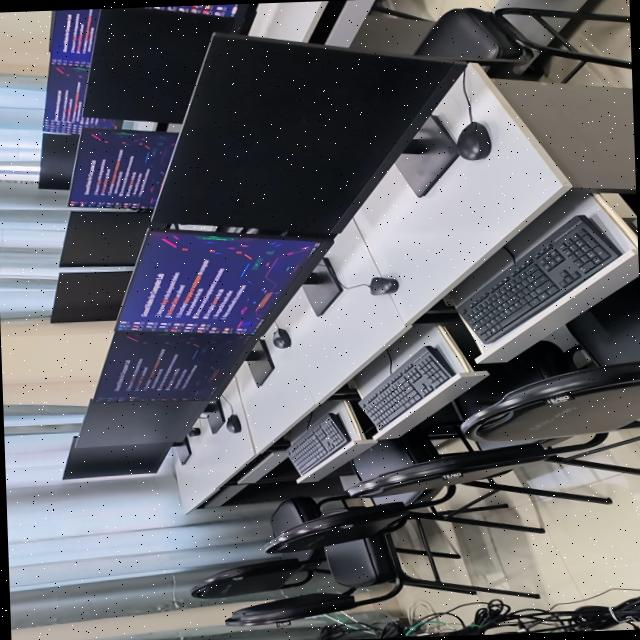Chair: (225, 518, 538, 625), (460, 277, 640, 440), (347, 431, 640, 496), (266, 484, 455, 552), (191, 547, 329, 597), (416, 7, 525, 58), (352, 427, 459, 478), (465, 470, 610, 502), (269, 495, 345, 537), (446, 516, 542, 532), (345, 513, 356, 522)
Keyboard: (460, 214, 617, 342), (360, 345, 453, 428), (289, 412, 349, 473)
Monitor: (152, 33, 465, 235), (116, 231, 319, 333), (83, 6, 243, 122), (93, 329, 250, 401), (69, 128, 177, 208), (59, 210, 167, 266), (79, 399, 207, 446), (42, 64, 120, 133), (62, 435, 183, 478), (50, 270, 129, 321), (50, 8, 99, 66), (38, 132, 77, 188)
Mouse: (455, 120, 491, 159), (367, 276, 398, 294), (271, 327, 291, 347), (226, 413, 240, 432), (188, 426, 200, 436)
